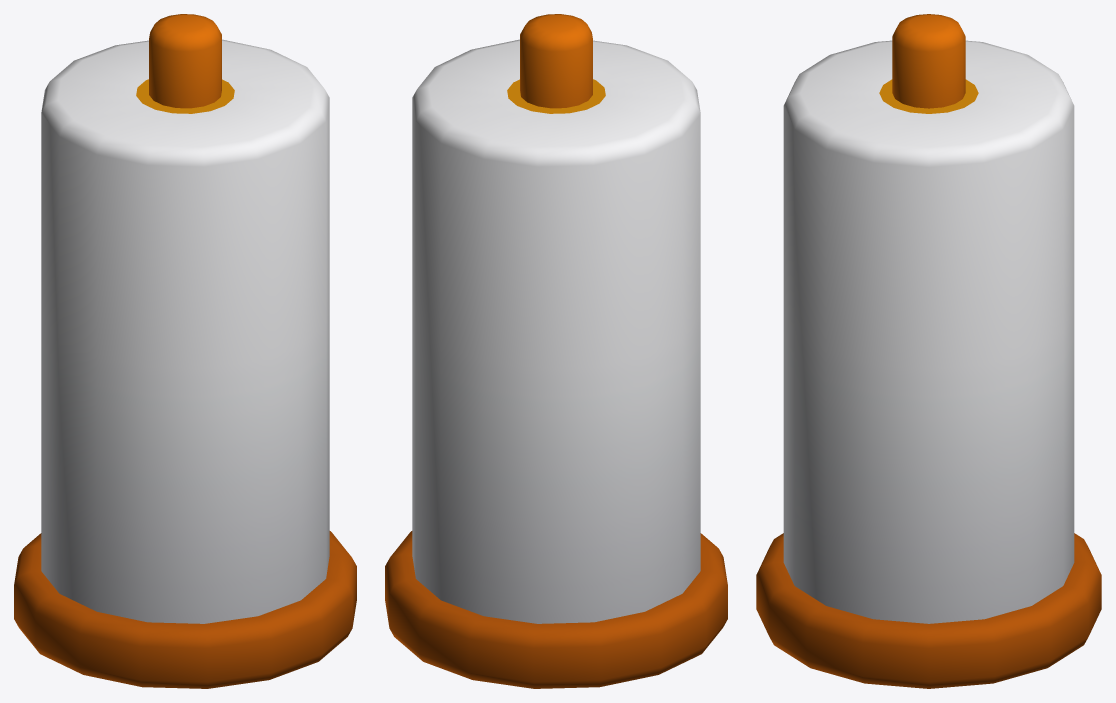
Rendered from Paper_towels.fbx.
3 renders of one model, left to right at view 1: azimuth 30°, elevation 25°; view 2: azimuth 150°, elevation 25°; view 3: azimuth 270°, elevation 25°, orthographic.
Parts seen in each view (by area): view 1: Paper_towels; view 2: Paper_towels; view 3: Paper_towels.
Boxes of the visible parts, x1,y1,x2,y2 form: Paper_towels: (14, 14, 356, 688); Paper_towels: (385, 14, 727, 688); Paper_towels: (756, 14, 1101, 688).
Size of the model in its own units: 55.87 by 55.87 by 107.
